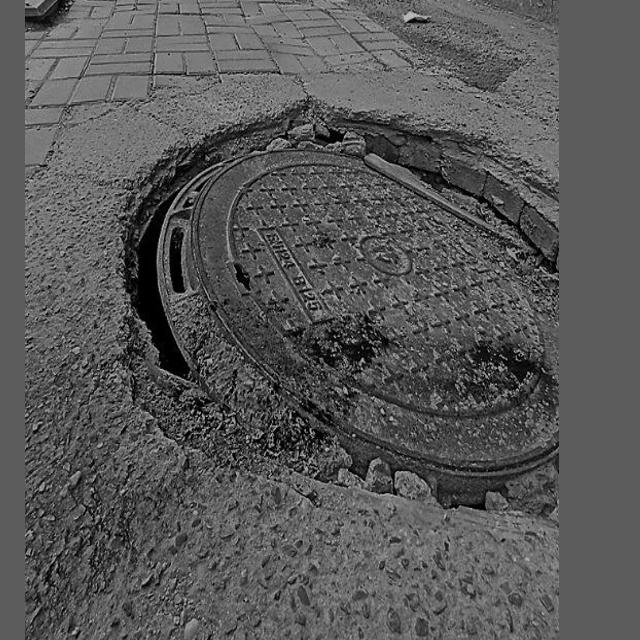circle: (95, 73, 557, 638)
